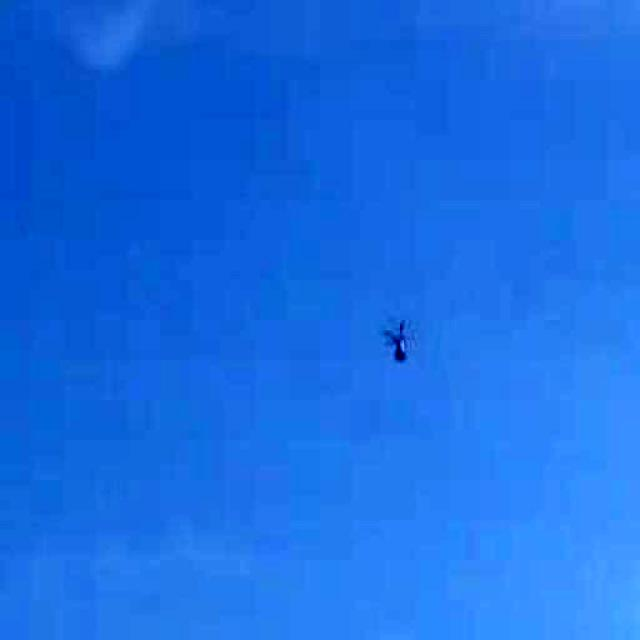drone: (359, 300, 439, 384)
